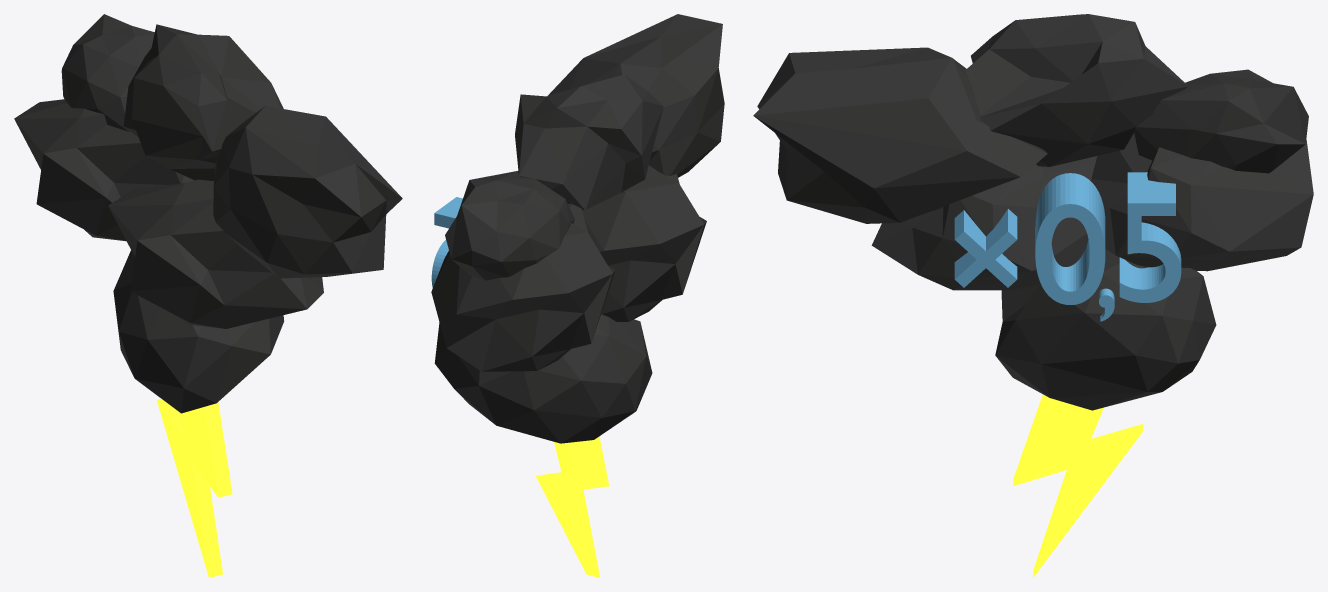
3 renders of one model, left to right at view 1: azimuth 30°, elevation 25°; view 2: azimuth 150°, elevation 25°; view 3: azimuth 270°, elevation 25°, orthographic. The views are drawn at different scales.
Parts seen in each view (by area): view 1: Icosphere.215, Icosphere.157; view 2: Icosphere.215, Icosphere.157, Text.090; view 3: Icosphere.215, Icosphere.157, Text.089, Text.090, Text.094.
Part boxes in pixels (x1=…): Icosphere.215: x1=14, y1=14, x2=402, y2=413; Icosphere.157: x1=157, y1=399, x2=232, y2=577; Icosphere.215: x1=431, y1=14, x2=724, y2=443; Icosphere.157: x1=536, y1=436, x2=609, y2=577; Text.090: x1=431, y1=197, x2=462, y2=287; Icosphere.215: x1=753, y1=14, x2=1313, y2=410; Icosphere.157: x1=1013, y1=394, x2=1143, y2=577; Text.089: x1=1035, y1=173, x2=1105, y2=304; Text.090: x1=1119, y1=172, x2=1181, y2=302; Text.094: x1=954, y1=209, x2=1017, y2=287.
Size of the model in its own units: 43.27 by 110 by 101.
